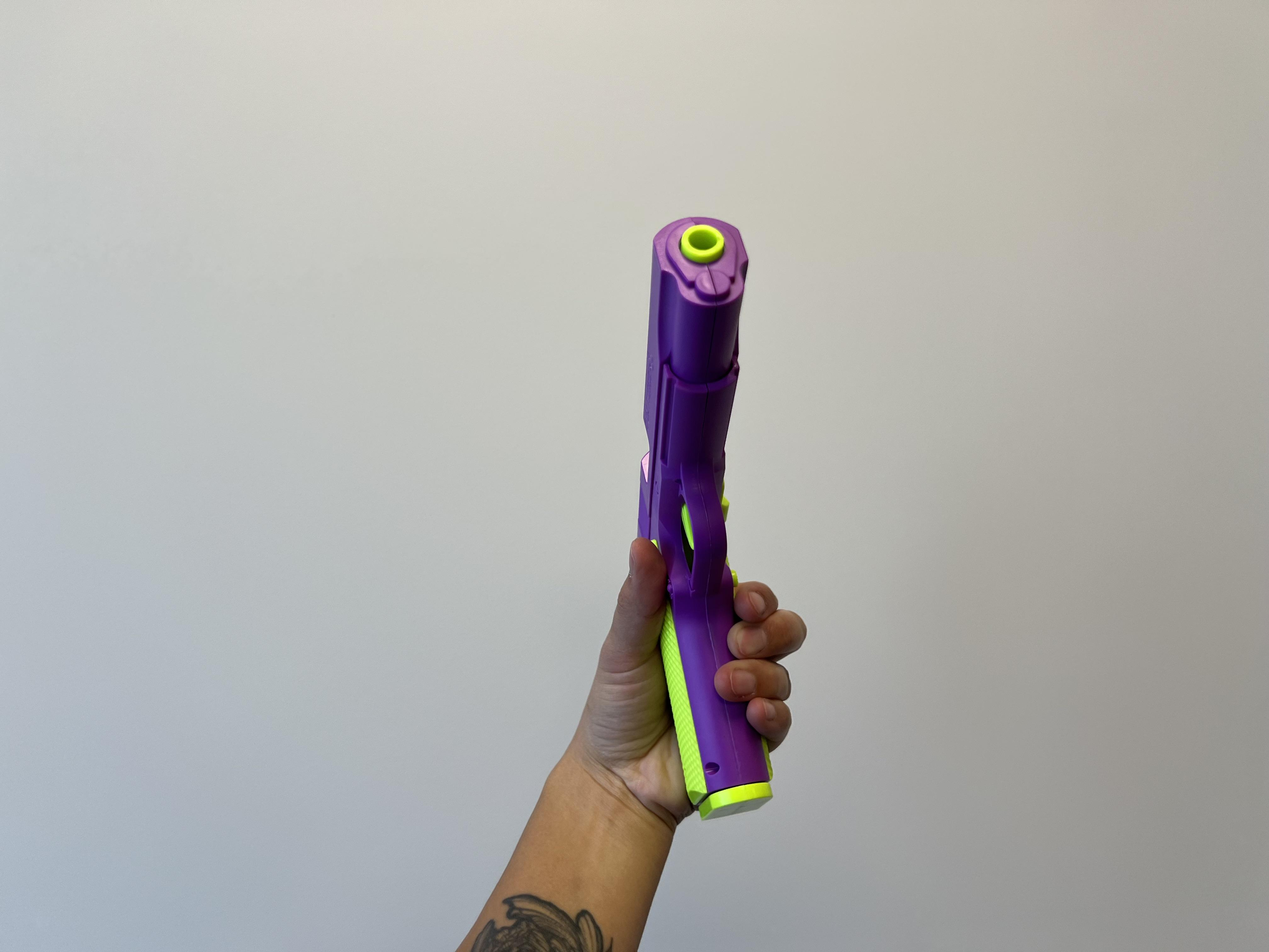Knife: (437, 532, 807, 952), (628, 194, 782, 825), (574, 519, 809, 836)
